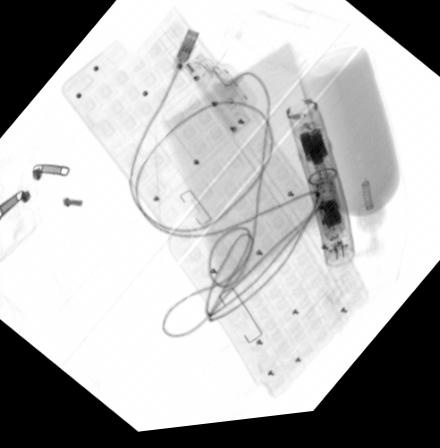Baton: (283, 102, 358, 278)
